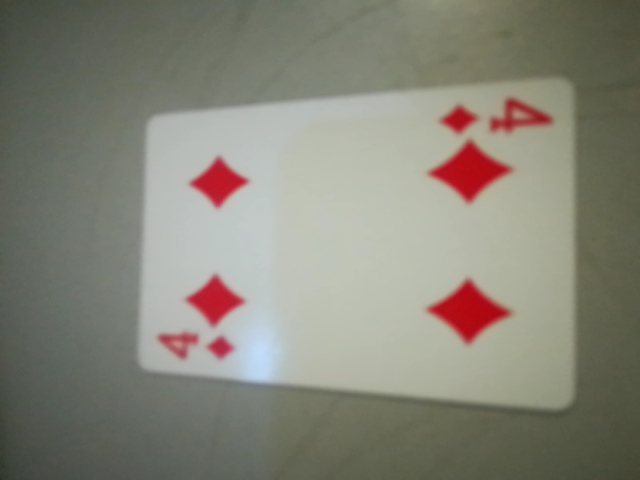fk 4: (422, 94, 565, 162)
